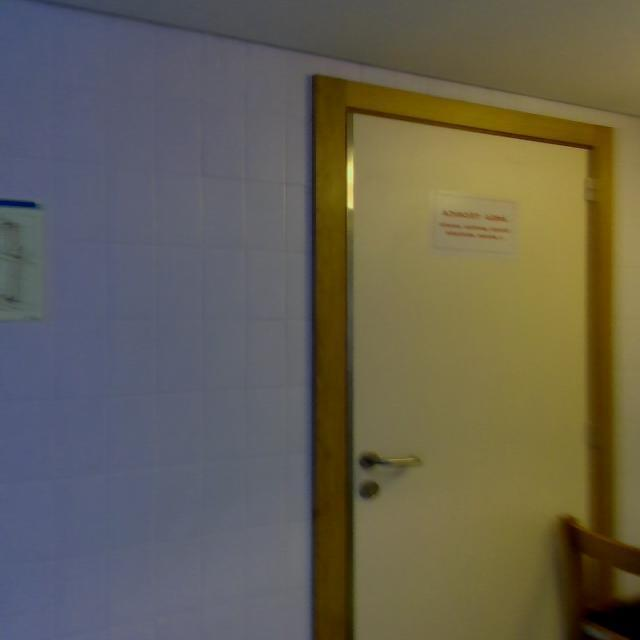door: (303, 78, 618, 640)
